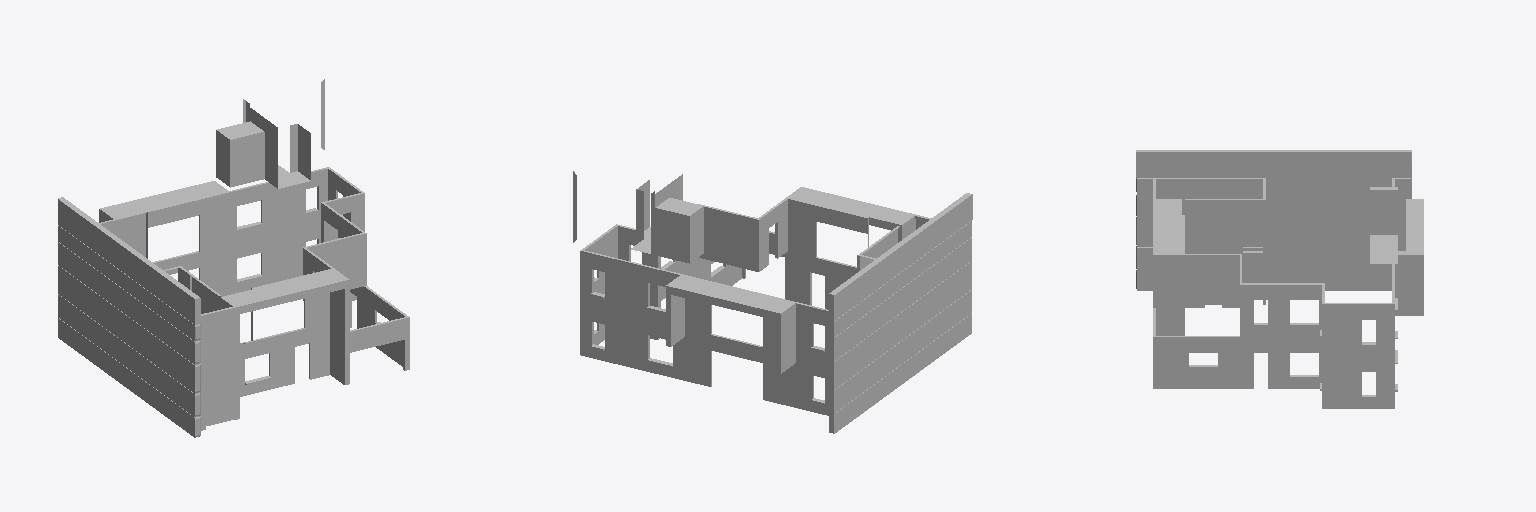
The picture shows the model from 3 angles: view 1: azimuth 30°, elevation 25°; view 2: azimuth 150°, elevation 25°; view 3: azimuth 270°, elevation 25°; orthographic projection.
Parts seen in each view (by area): view 1: MH1_OBJ_10_MH1_OBJ_10.001; view 2: MH1_OBJ_10_MH1_OBJ_10.001; view 3: MH1_OBJ_10_MH1_OBJ_10.001.
Part boxes in pixels (bbox=[...]): MH1_OBJ_10_MH1_OBJ_10.001: bbox=[58, 79, 409, 437]; MH1_OBJ_10_MH1_OBJ_10.001: bbox=[573, 171, 972, 433]; MH1_OBJ_10_MH1_OBJ_10.001: bbox=[1136, 150, 1423, 408].
Bounding box in the file's own units: 126 × 89.94 × 118.